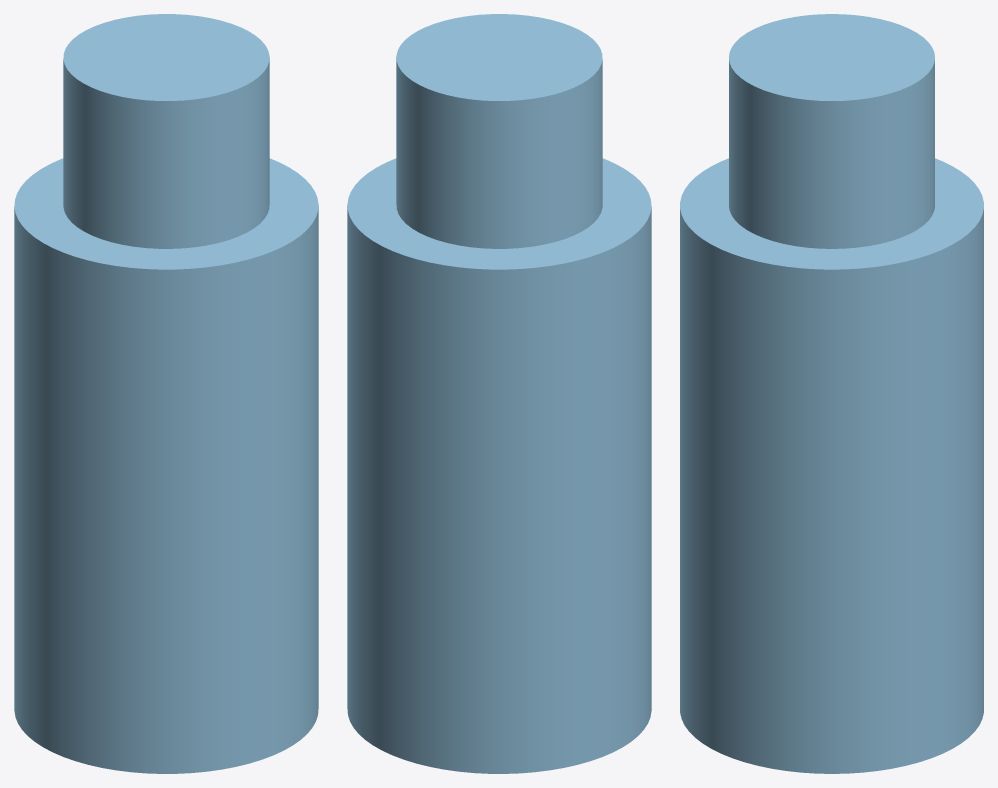
File: centering_piece.dae
3 views of the same model, side by side, from view 1: azimuth 30°, elevation 25°; view 2: azimuth 150°, elevation 25°; view 3: azimuth 270°, elevation 25° (orthographic).
Visible parts, largest first — view 1: ID2; view 2: ID2; view 3: ID2.
Boxes of the visible parts, x1,y1,x2,y2 form: ID2: (14, 14, 318, 773); ID2: (347, 14, 651, 773); ID2: (680, 14, 983, 773).
Bounding box in the file's own units: 0.0317 × 0.0317 × 0.075.
